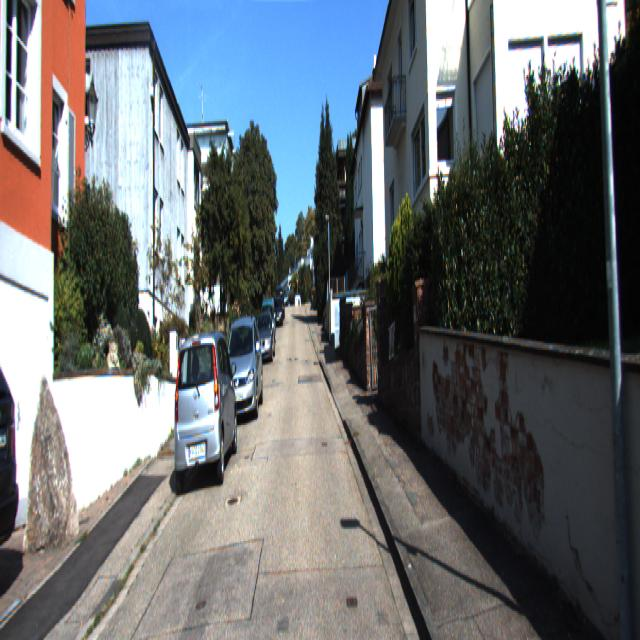Car: (171, 322, 239, 495), (219, 315, 265, 425), (254, 311, 276, 363)
DontCare: (0, 329, 19, 595), (270, 279, 290, 338)
